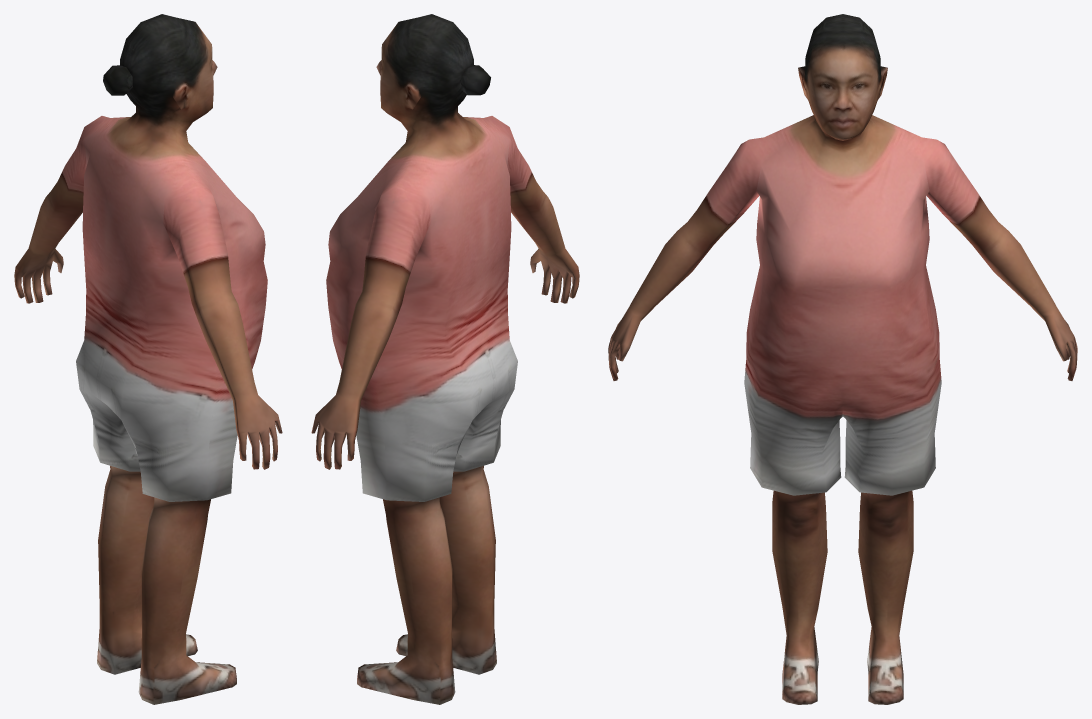
The model's file is Character_54_Female.fbx.
The picture shows the model from 3 angles, left to right: view 1: azimuth 30°, elevation 25°; view 2: azimuth 150°, elevation 25°; view 3: azimuth 270°, elevation 25°; orthographic projection.
Visible parts, largest first — view 1: Character_54_Female; view 2: Character_54_Female; view 3: Character_54_Female.
Part boxes in pixels (left/top/right/bottom): Character_54_Female: left=14, top=14, right=282, bottom=704; Character_54_Female: left=311, top=14, right=579, bottom=704; Character_54_Female: left=608, top=14, right=1077, bottom=704.
Bounding box in the file's own units: 0.3565 × 1.54 × 0.9892.
